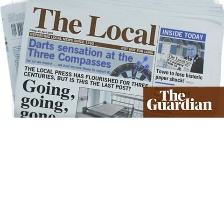news_paper: (0, 0, 224, 119)
